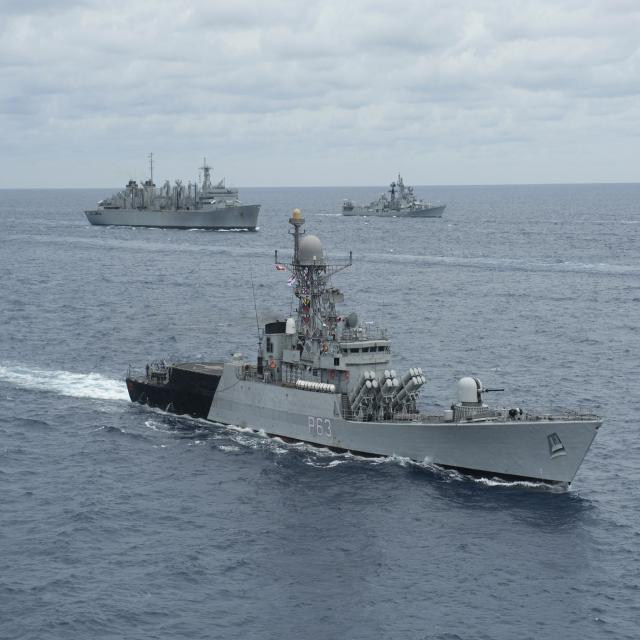navalvessels: (123, 208, 600, 496), (86, 111, 256, 242), (329, 142, 445, 225)
